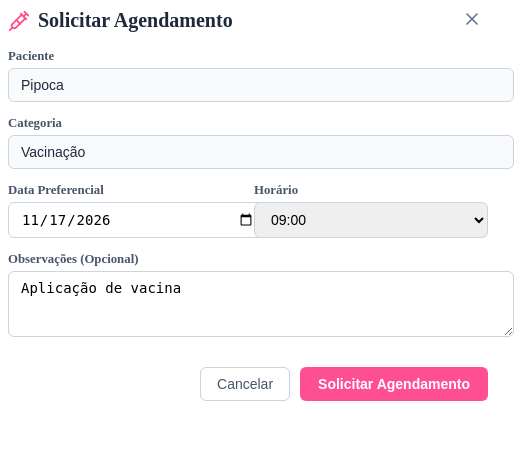
Scenario: RequestAppointmentModal — Solicitação de Agendamento pelo Tutor (EVO-06) › deve exibir mensagem de erro quando a API falhar
Step 1. Click the button "Solicitar Agendamento" → [394, 384], box [300,367,488,401]
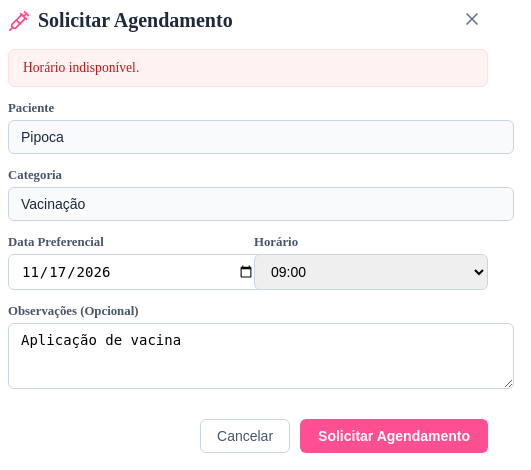
expect the text "Horário indisponível." is shown: met, box [8,49,488,87]
